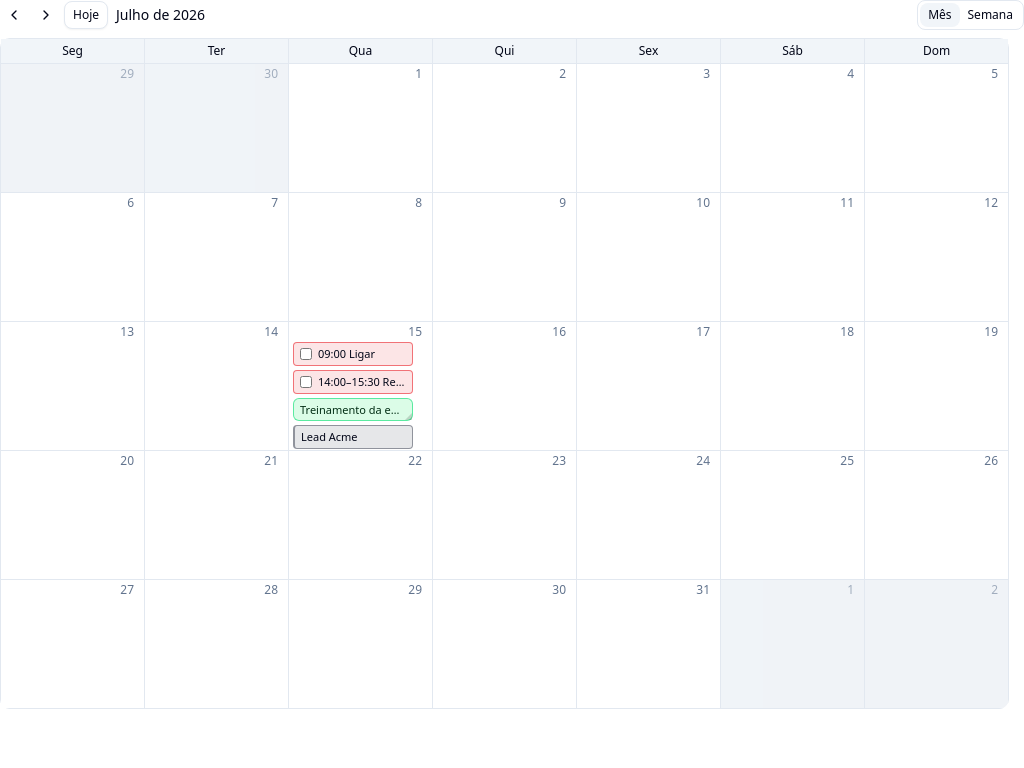
Test: AgendaView — grade redesenhada › clique na anotação abre o post-it com o texto completo
This screenshot has width=1024, height=768.
Click the button "Treinamento da equipe": coordinates (353, 409) 293,398 -> 413,421
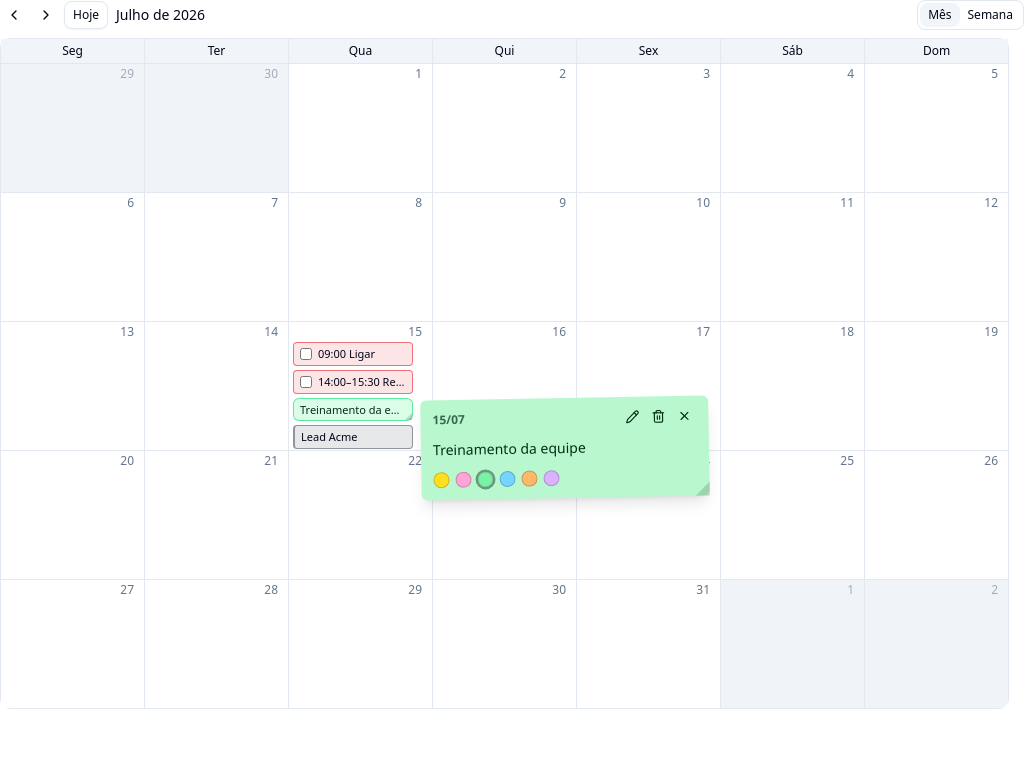
expect the dialog is shown: met, box 420,395 -> 710,500
expect the text "Treinamento da equipe" is shown: met, box 433,437 -> 586,459
